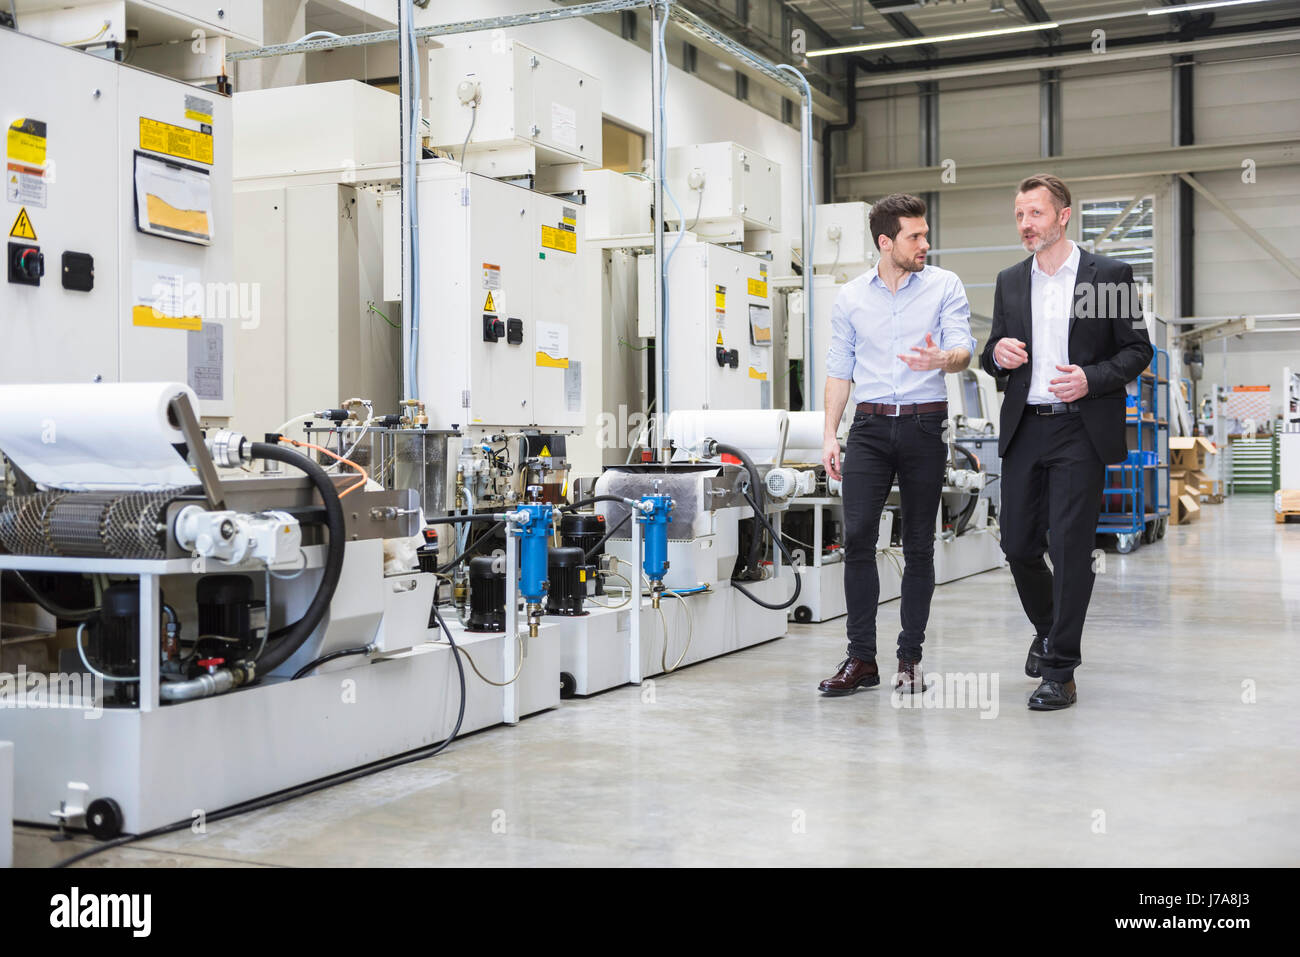person: (980, 176, 1154, 710), (815, 197, 971, 697)
